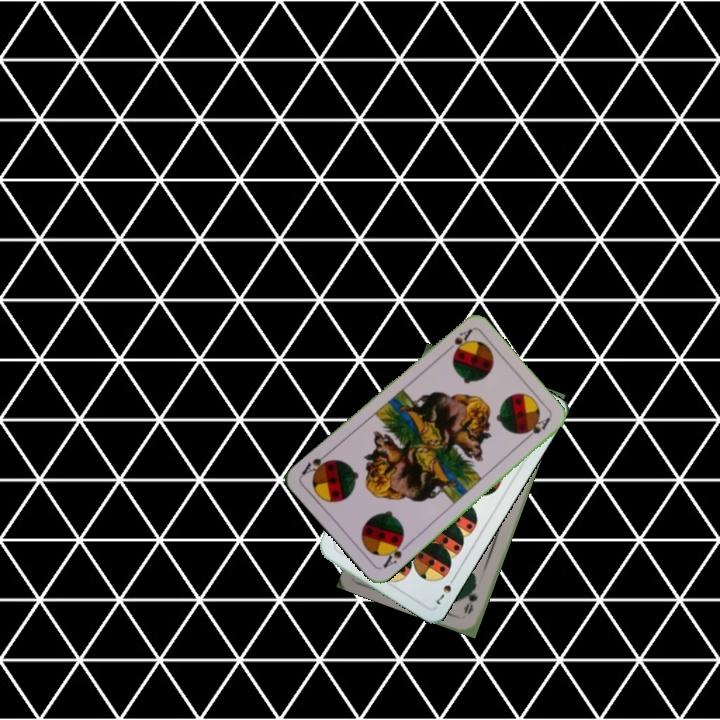GO: (460, 578, 480, 617)
S7: (432, 572, 458, 608)
SA: (379, 535, 412, 571), (441, 324, 475, 356)
